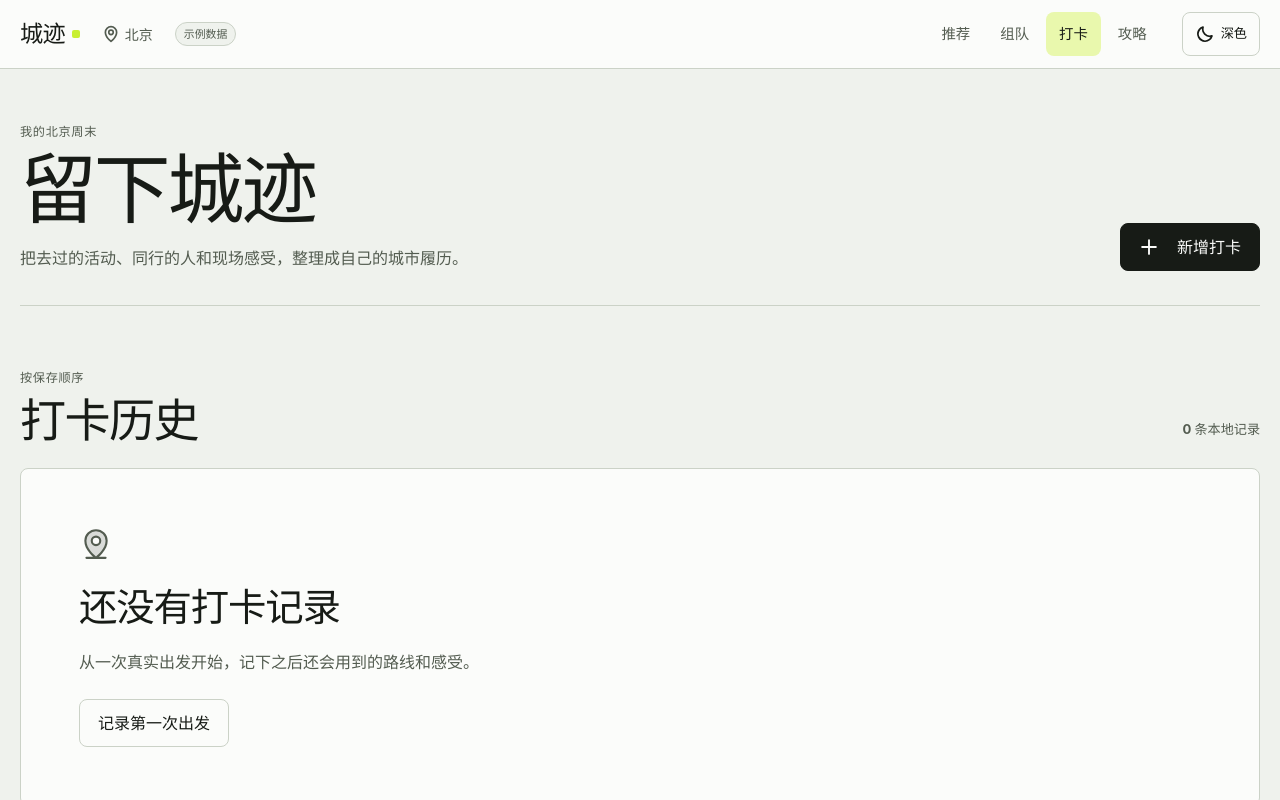
Test: preselects the activity query and moves focus into the dialog
The image size is (1280, 800).
Click the button "新增打卡" at (1190, 247), box [1120,223,1260,271]
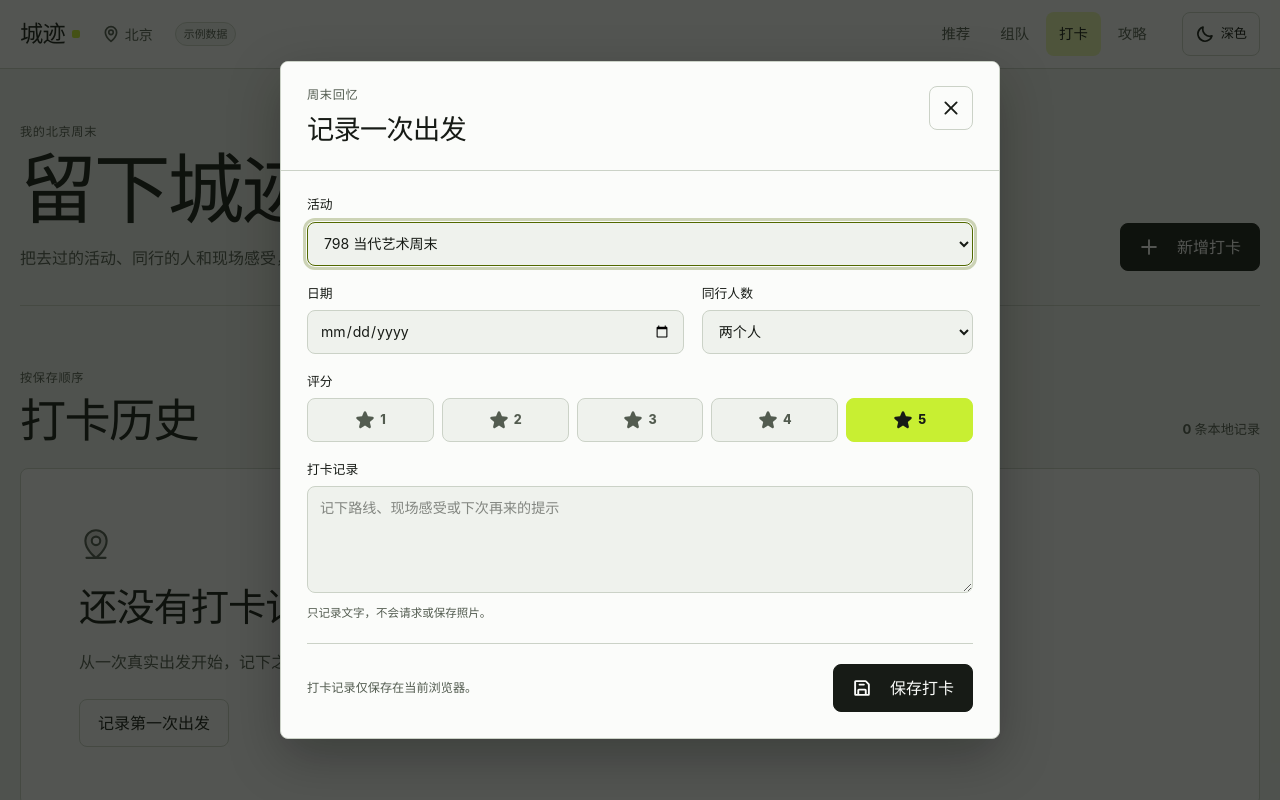
Expected: the dialog "记录一次出发" is shown, [280,61,1000,739]
Expected: the dropdown labelled "活动" shows "798 当代艺术周末", [307,222,973,266]
Click the button named "关闭打卡窗口" at (951, 108), box [929,86,973,130]
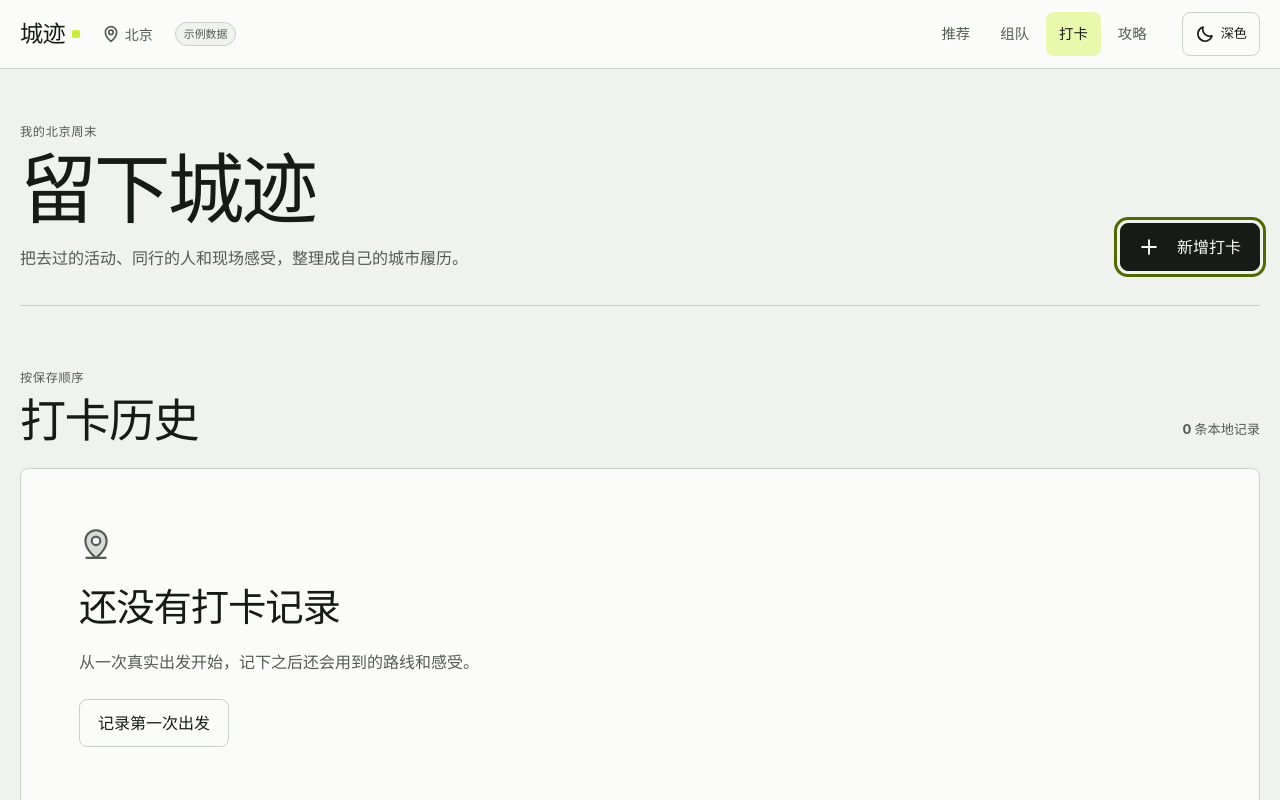
Expected: the dialog is gone
